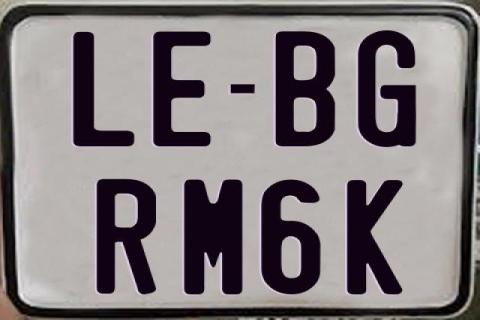0: (260, 177, 320, 295)
B: (276, 31, 338, 147)
E: (152, 31, 213, 149)
G: (358, 29, 417, 145)
K: (348, 177, 404, 297)
L: (71, 29, 134, 145)
M: (184, 177, 249, 296)
R: (95, 179, 160, 296)
